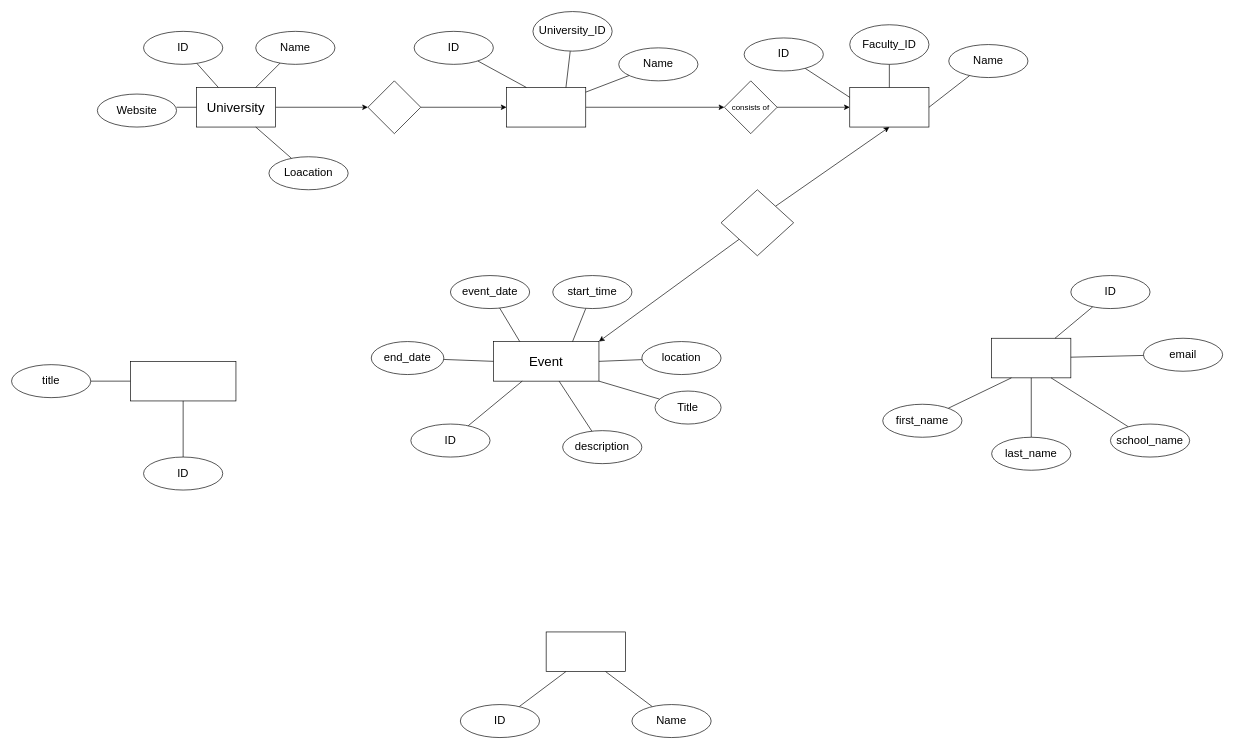
Some shapes in this 1234 by 749 pixel diagram are drawn without their labels. The shapes that lost their labels are listed below. From the top down, each one's centre as x and y in pixels, then its label:
At [394,107]: "Has".
At [546,107]: "Faculty".
At [889,107]: "Department".
At [757,222]: "Organized".
At [1031,358]: "User".
At [183,381]: "Announcement".
At [585,651]: "Category".
